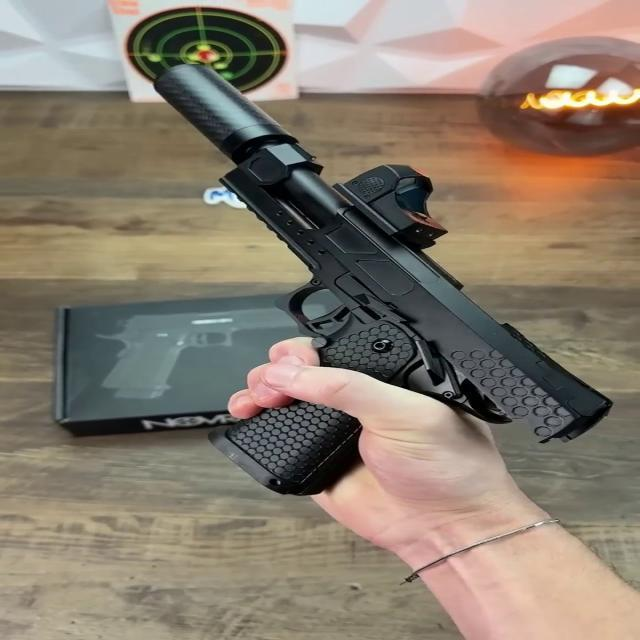Handgun: (125, 61, 620, 522)
